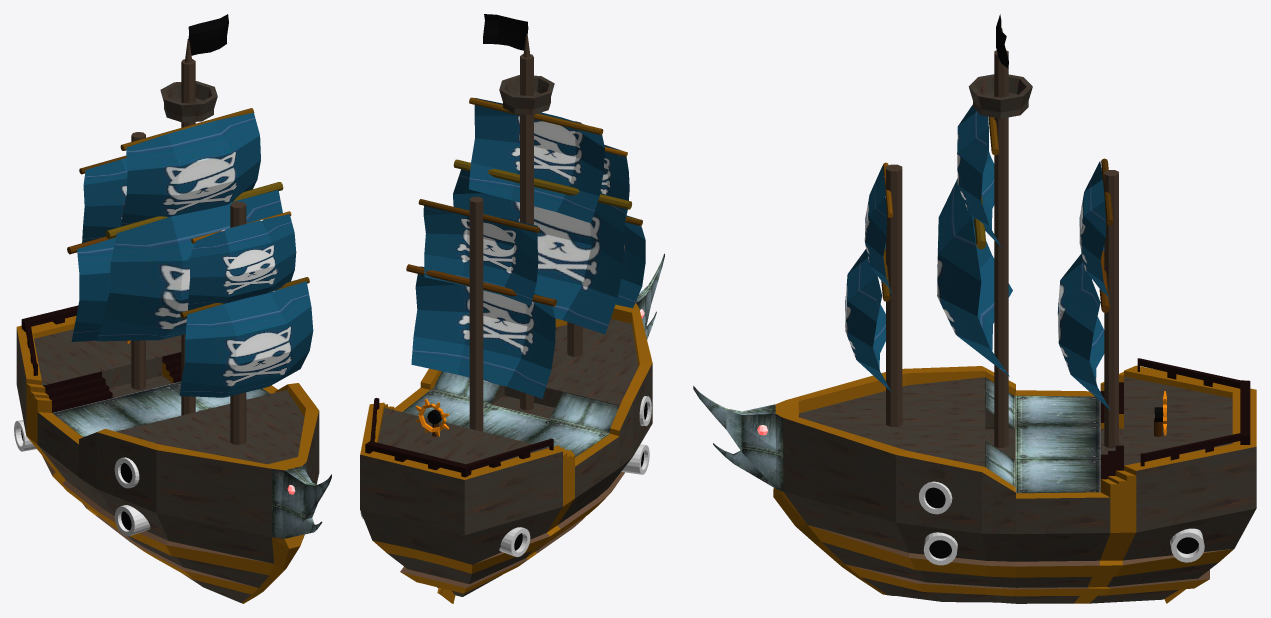
Rendered from pirate_ship_cat.glb.
The picture shows the model from 3 angles, left to right: view 1: azimuth 30°, elevation 25°; view 2: azimuth 150°, elevation 25°; view 3: azimuth 270°, elevation 25°; orthographic projection. The views are drawn at different scales.
Visible parts, largest first — view 1: Cube, Plane.001, Plane.002, Plane.003, Plane, Plane.004, Plane.005, Cylinder.012, Cylinder.001, Cylinder.015, Cylinder.002; view 2: Cube, Plane.004, Plane.002, Plane.003, Plane.005, Plane.001, Plane, Cylinder.001, Cylinder.004, Cylinder.002, Cylinder.003, Cylinder.013 (+2 smaller); view 3: Cube, Plane.002, Plane.004, Plane.001, Plane.003, Plane.005, Plane, Cylinder.014, Cylinder.011, Cylinder.009.
Boxes of the visible parts, <box> form: Cube: <box>16,14,331,603</box>; Plane.001: <box>179,281,313,397</box>; Plane.002: <box>97,190,282,341</box>; Plane.003: <box>121,112,260,226</box>; Plane: <box>188,214,296,310</box>; Plane.004: <box>71,237,115,341</box>; Plane.005: <box>82,158,127,242</box>; Cylinder.012: <box>114,505,150,536</box>; Cylinder.001: <box>105,182,283,238</box>; Cylinder.015: <box>114,457,139,488</box>; Cylinder.002: <box>120,108,254,150</box>; Cube: <box>360,14,664,603</box>; Plane.004: <box>411,266,555,398</box>; Plane.002: <box>453,169,625,334</box>; Plane.003: <box>468,98,604,223</box>; Plane.005: <box>423,205,538,305</box>; Plane.001: <box>615,215,645,308</box>; Plane: <box>600,145,629,221</box>; Cylinder.001: <box>453,159,631,209</box>; Cylinder.004: <box>406,264,556,306</box>; Cylinder.002: <box>469,97,603,134</box>; Cylinder.003: <box>418,199,539,232</box>; Cylinder.013: <box>499,527,530,557</box>; Cube: <box>693,14,1256,603</box>; Plane.002: <box>937,178,1012,376</box>; Plane.004: <box>1057,253,1110,410</box>; Plane.001: <box>845,249,891,392</box>; Plane.003: <box>957,104,1001,247</box>; Plane.005: <box>1079,161,1110,302</box>; Plane: <box>864,165,891,294</box>; Cylinder.014: <box>1170,528,1204,562</box>; Cylinder.011: <box>923,532,957,565</box>; Cylinder.009: <box>919,481,952,514</box>.
Size of the model in its own units: 204 by 516 by 447.
Materials: 32 (9 with a texture image).
